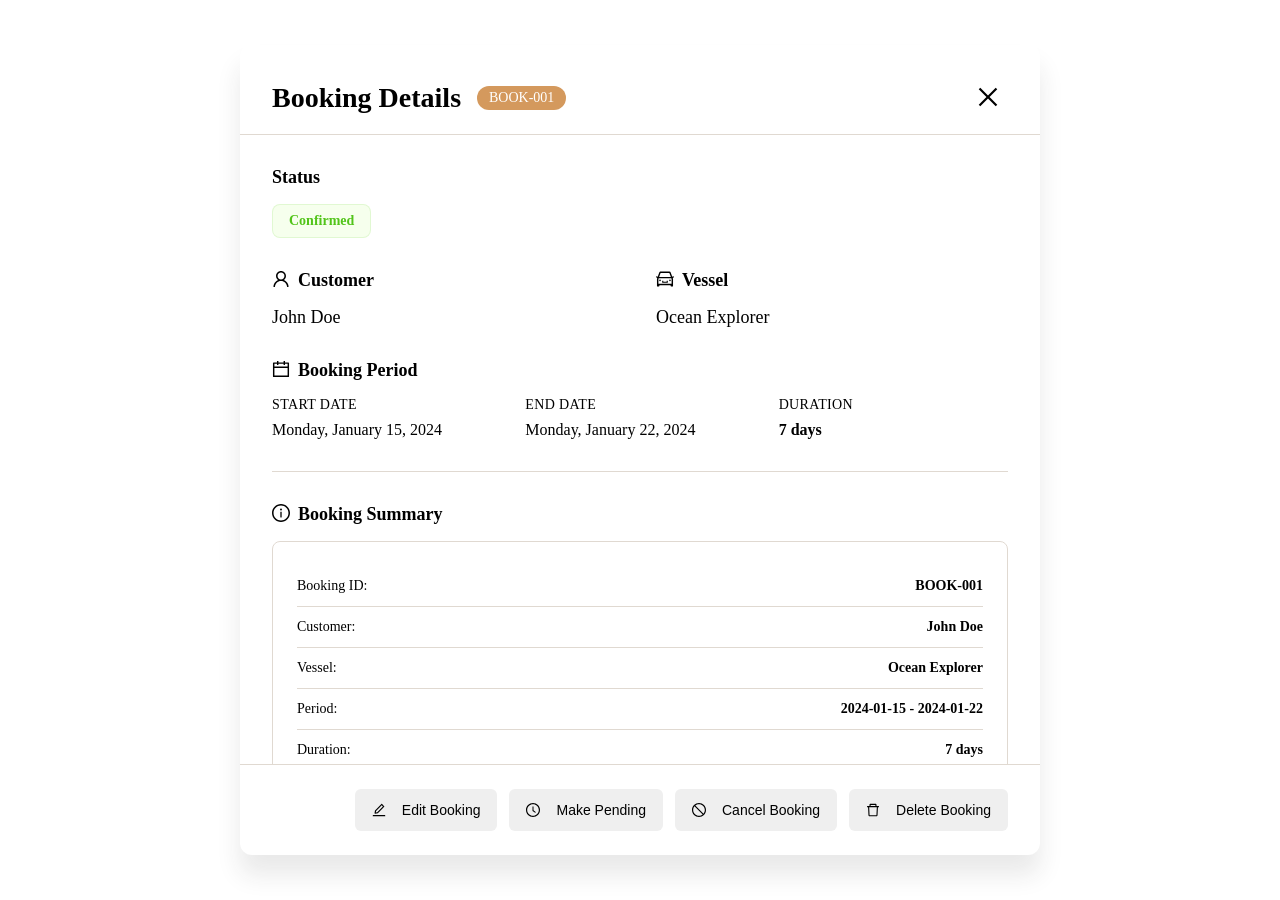
Test: BookingDetailModal › Delete Confirmation Modal › shows delete confirmation modal when delete button is clicked
This screenshot has width=1280, height=900.
Click the button "Delete Booking": (928, 810) top-left (849, 789), bottom-right (1008, 831)
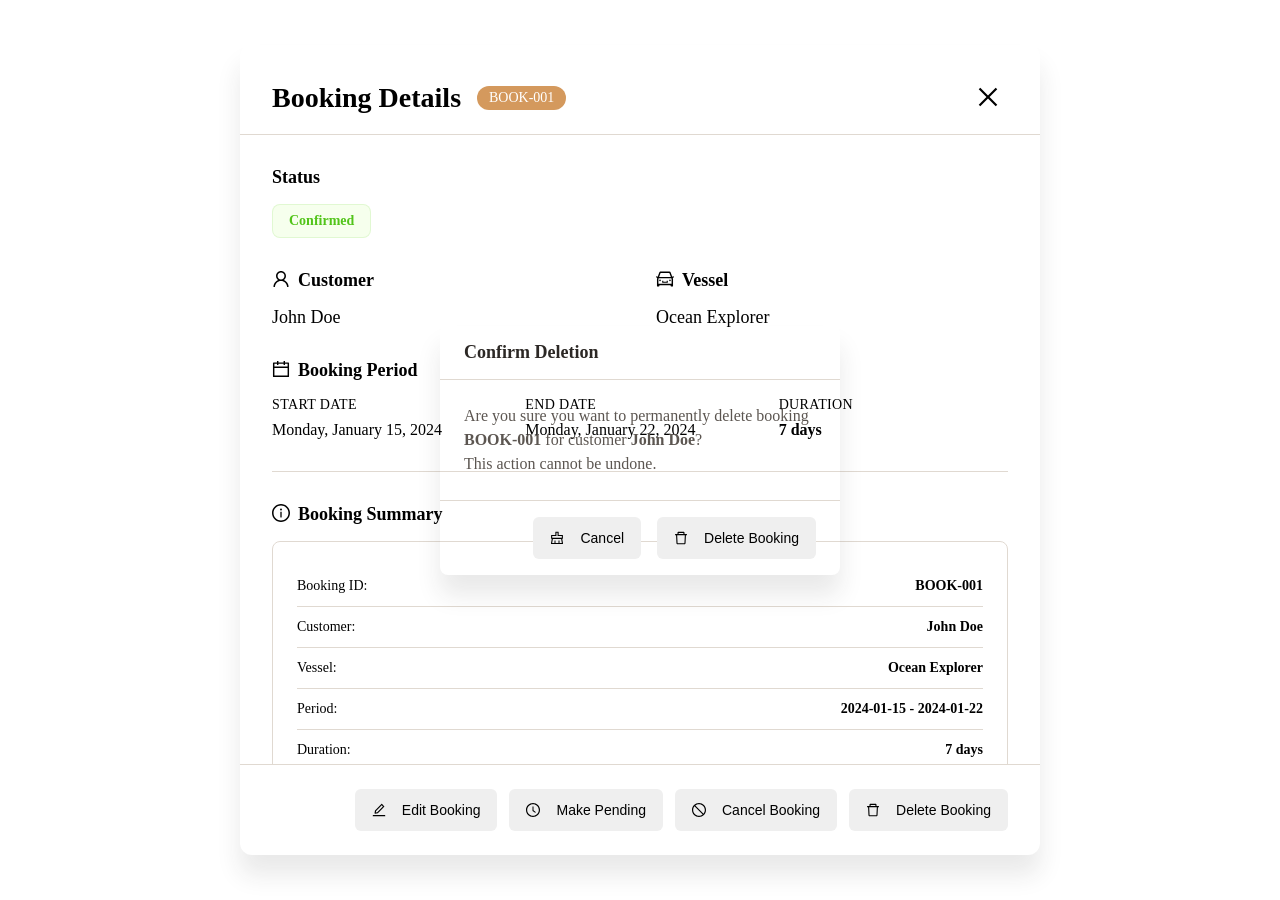
expect the heading "Confirm Deletion" is shown: met, box top-left (464, 342), bottom-right (598, 362)
expect the text "Are you sure you want to permanently delete booking" is shown: met, box top-left (464, 406), bottom-right (809, 424)
